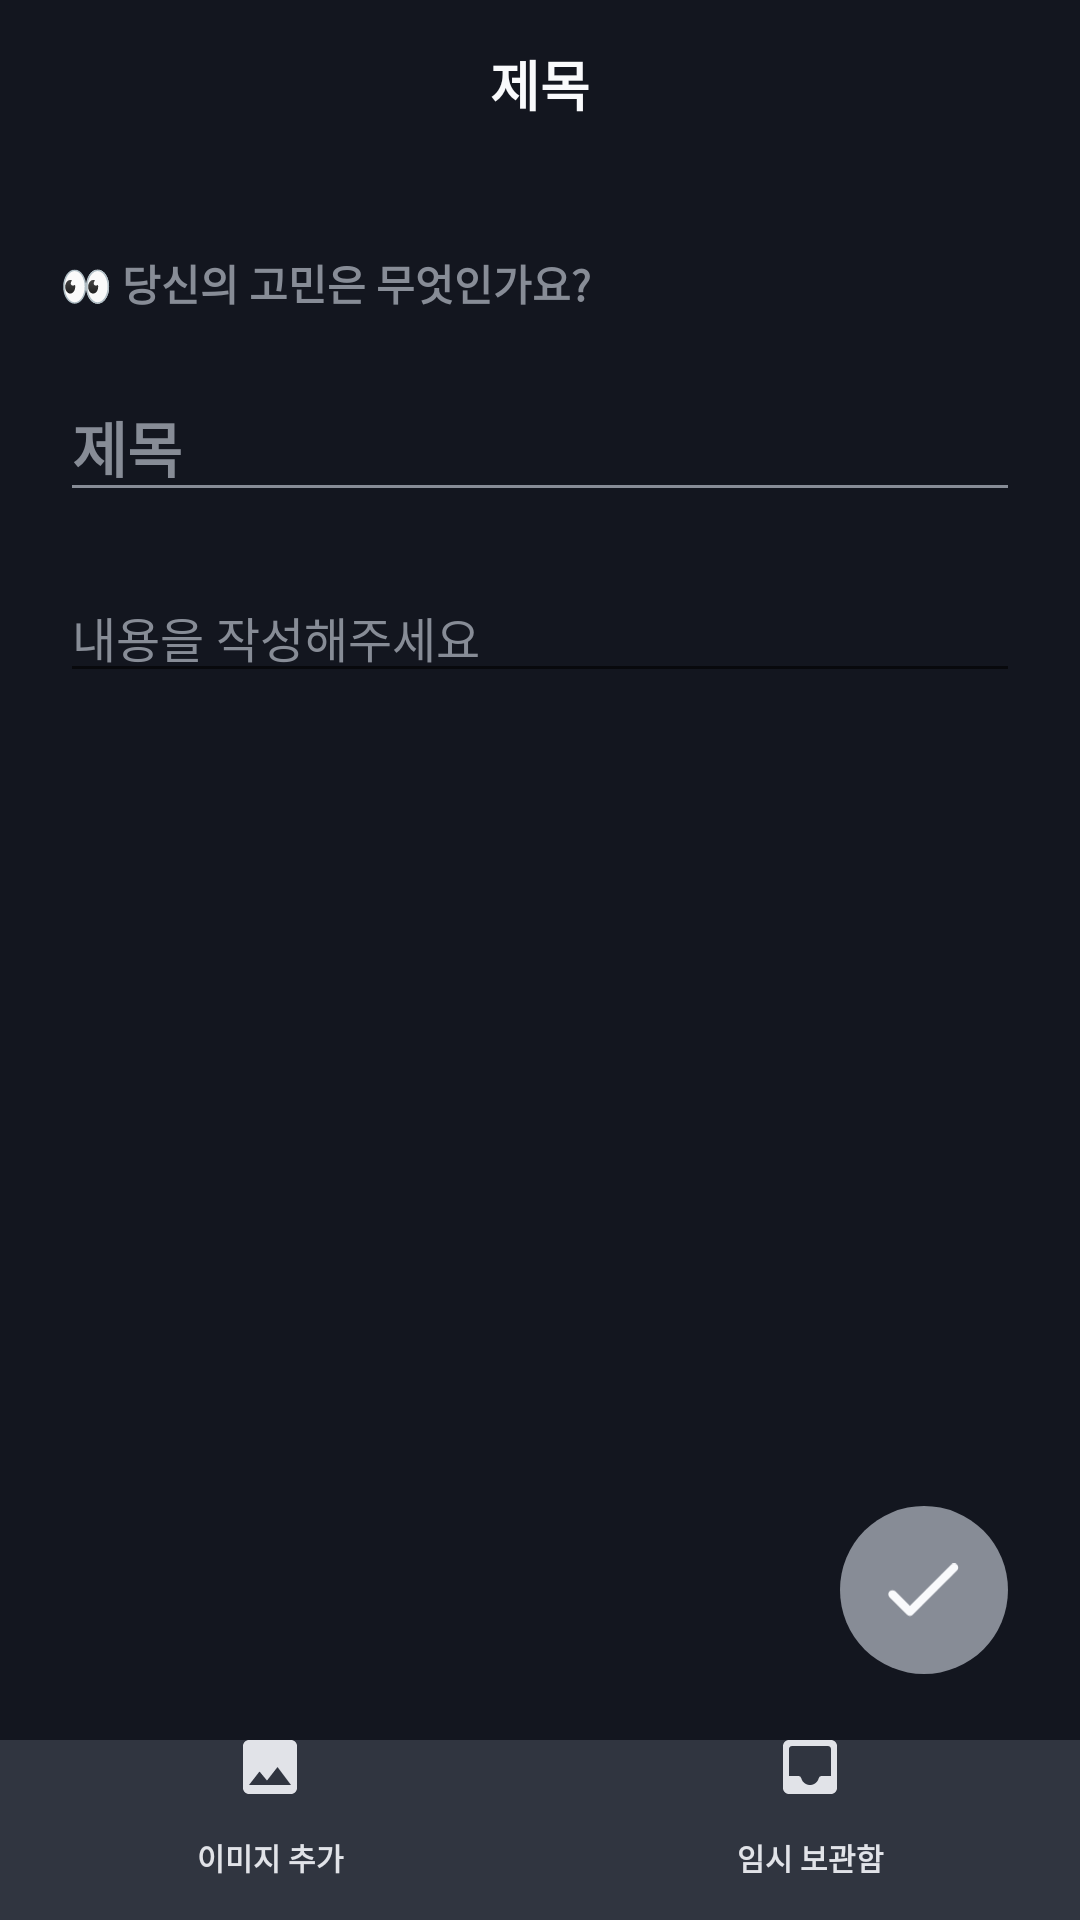

Locate icon controls on the screen. Image size 1080 x 1920, boxes as detection(x1, y1, x2, y2).
check sign: detection(840, 1506, 1008, 1674)
